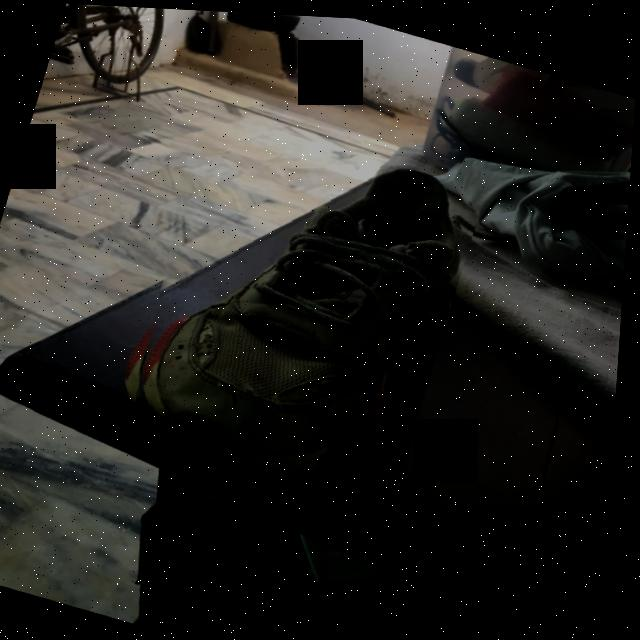shoe: (109, 103, 491, 504)
